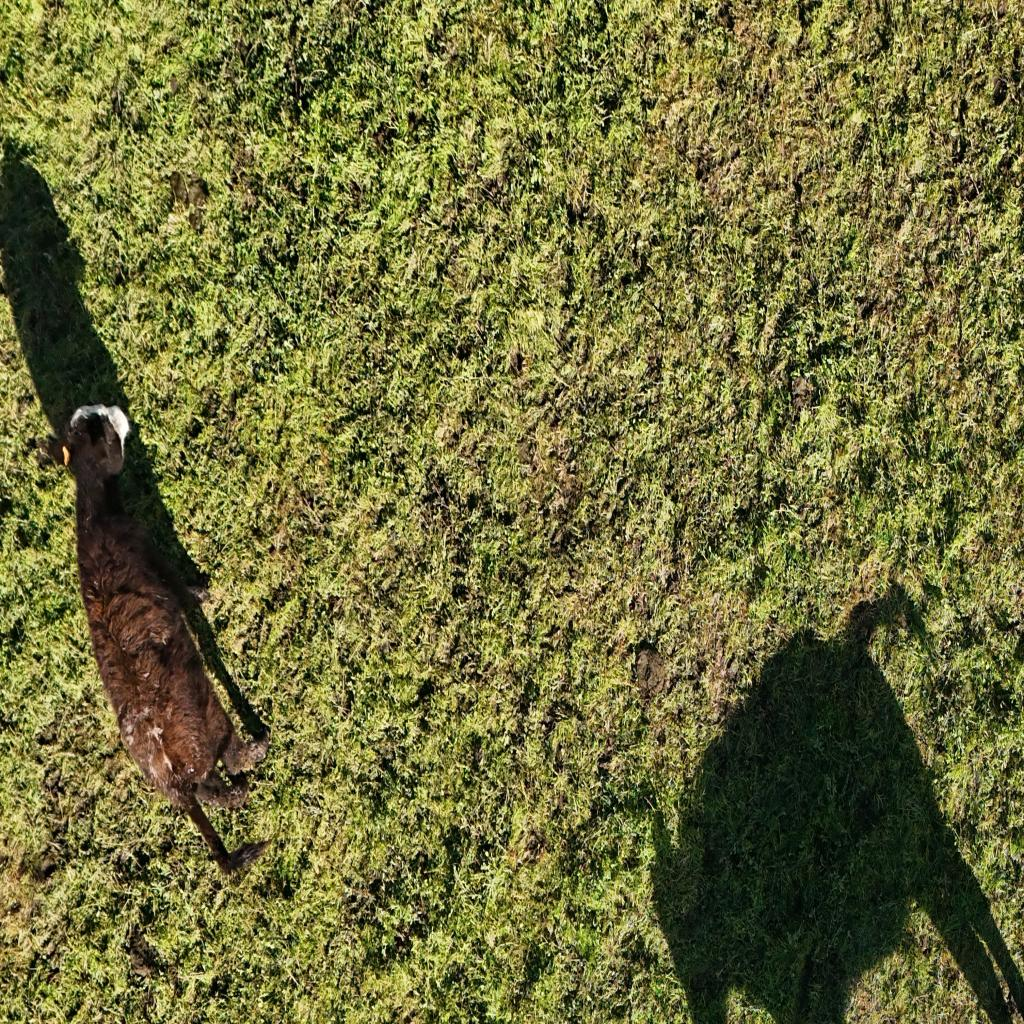cow: (60, 404, 274, 875)
